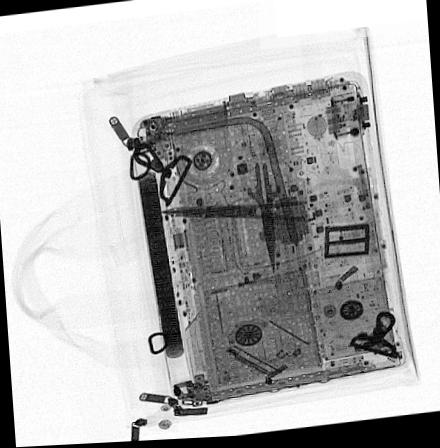Scissors: (242, 162, 284, 282), (157, 199, 314, 228)
